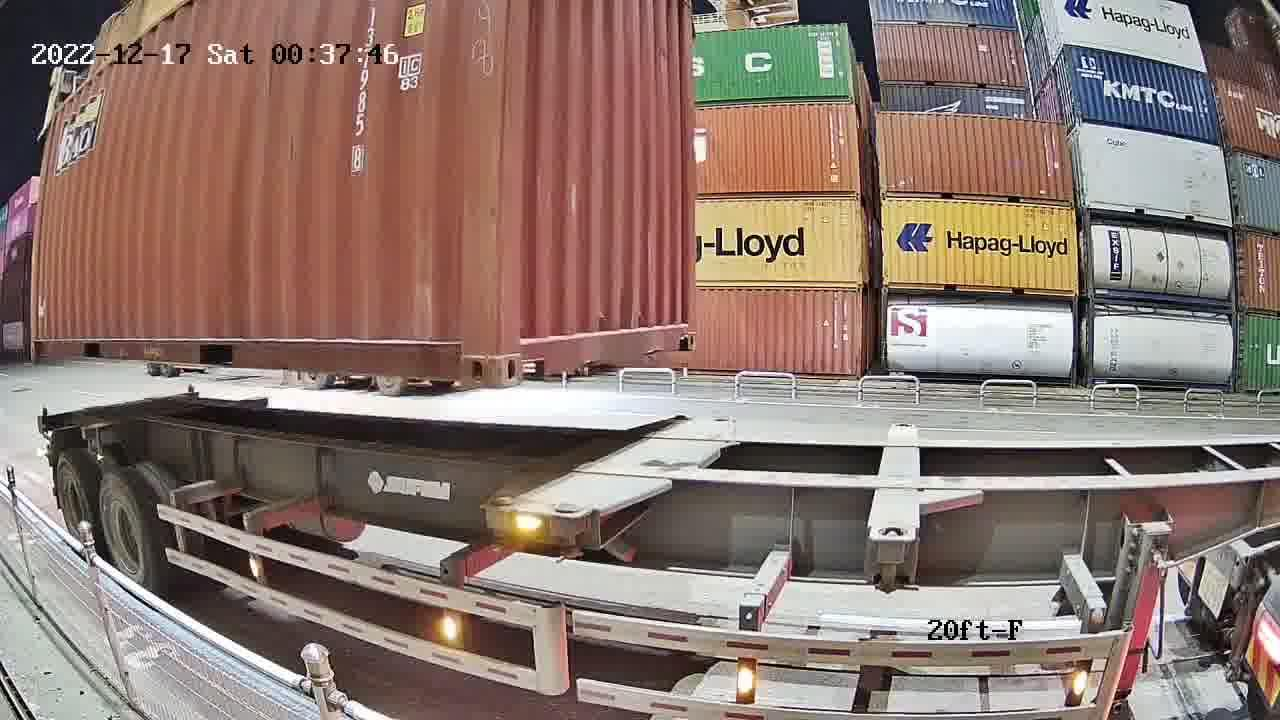Cone: (482, 493, 517, 549)
Hole_L: (499, 315, 560, 386)
Hole_R: (424, 317, 498, 388), (661, 299, 699, 349)
Tire: (97, 484, 144, 576), (59, 459, 93, 532)
